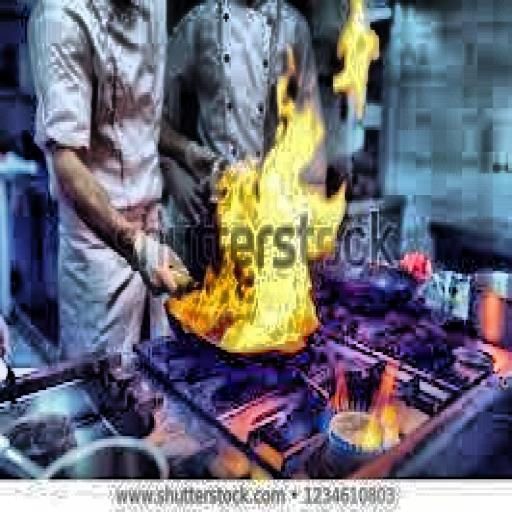fire: (168, 111, 352, 377)
